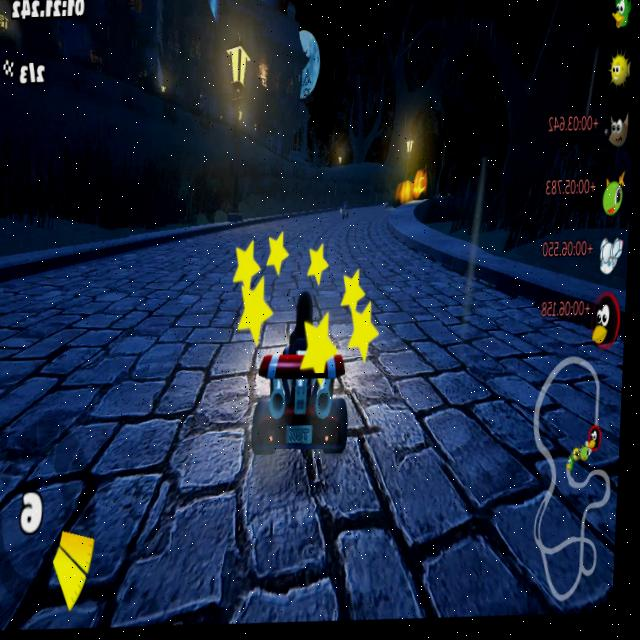enemy_kart: (339, 197, 352, 225)
obstacle: (396, 165, 428, 208)
player_kart: (247, 309, 352, 473)
track: (0, 249, 262, 640), (339, 321, 625, 615), (243, 477, 342, 629), (257, 225, 381, 324), (376, 245, 437, 323), (433, 271, 479, 325), (165, 227, 252, 254), (273, 201, 332, 227), (478, 286, 508, 325), (352, 194, 389, 219)
